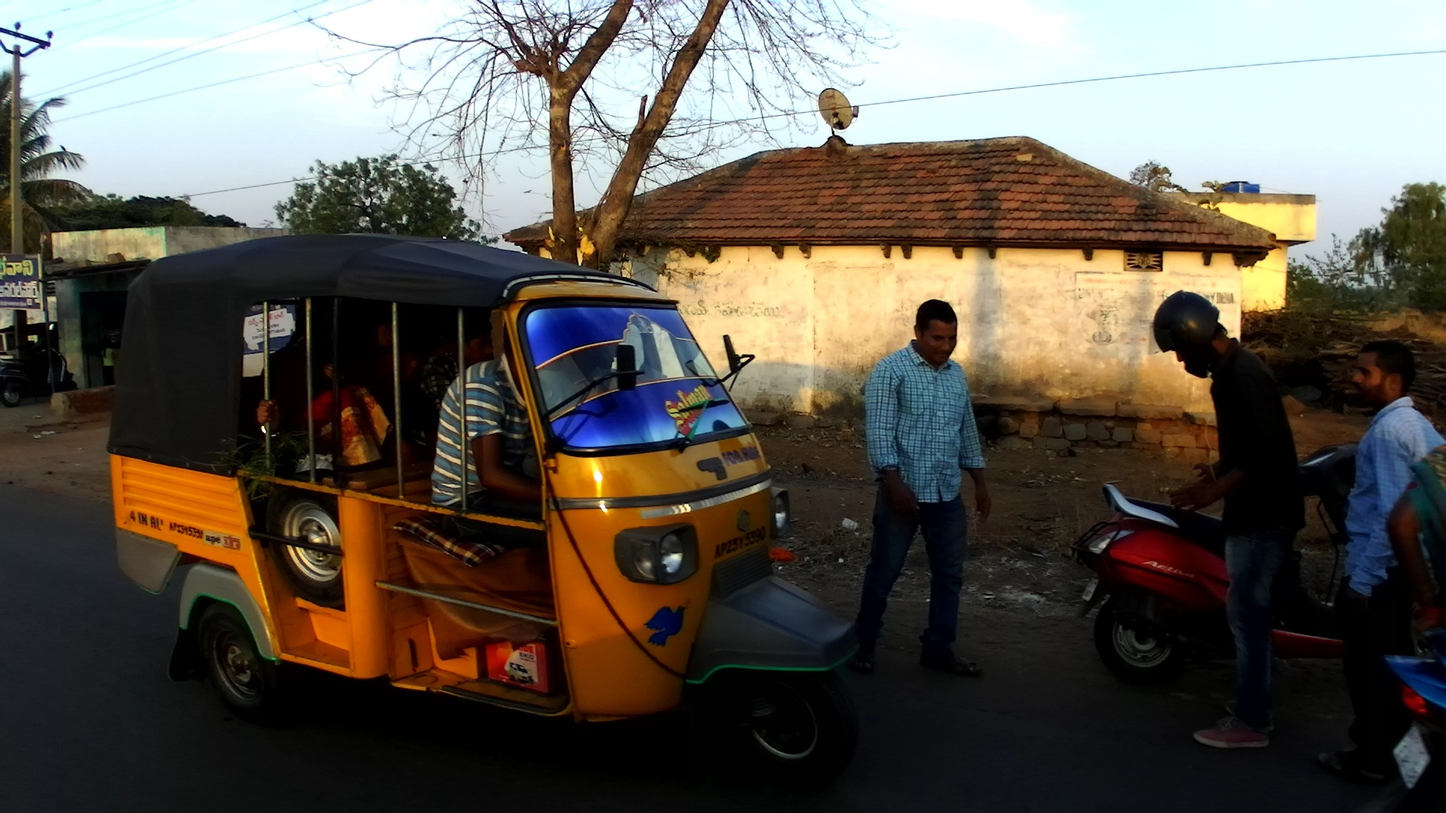autorickshaw: (105, 230, 863, 803)
motorcycle: (1066, 442, 1446, 688), (1371, 616, 1446, 813), (0, 318, 80, 406)
person: (1166, 288, 1298, 761), (1320, 340, 1441, 793), (853, 294, 991, 687), (97, 340, 120, 390)
rider: (1389, 418, 1446, 682)
